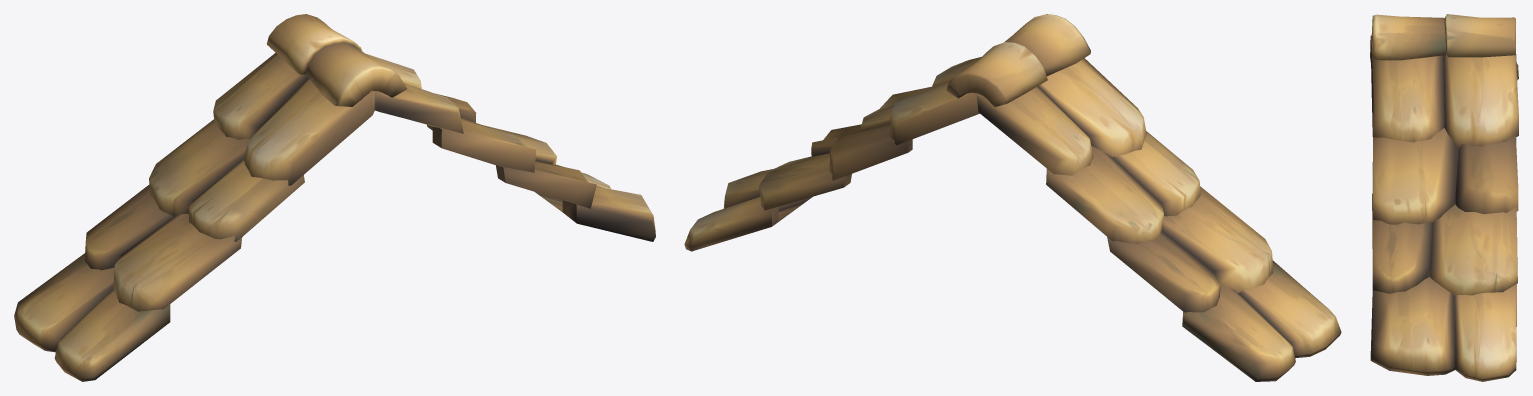
Rendered from SM_MOD_roof_cap_extension_bricks_town.fbx.
3 renders of one model, left to right at view 1: azimuth 30°, elevation 25°; view 2: azimuth 150°, elevation 25°; view 3: azimuth 270°, elevation 25°, orthographic. The views are drawn at different scales.
Visible parts, largest first — view 1: SM_MOD_roof_cap_extension_bricks_town_LOD0; view 2: SM_MOD_roof_cap_extension_bricks_town_LOD0; view 3: SM_MOD_roof_cap_extension_bricks_town_LOD0.
Part boxes in pixels (x1,y1,x2,y2): SM_MOD_roof_cap_extension_bricks_town_LOD0: [14, 14, 655, 381]; SM_MOD_roof_cap_extension_bricks_town_LOD0: [684, 14, 1341, 381]; SM_MOD_roof_cap_extension_bricks_town_LOD0: [1370, 14, 1518, 381].
Size of what is drawn, in the model's own units: 441 by 182 by 106.
